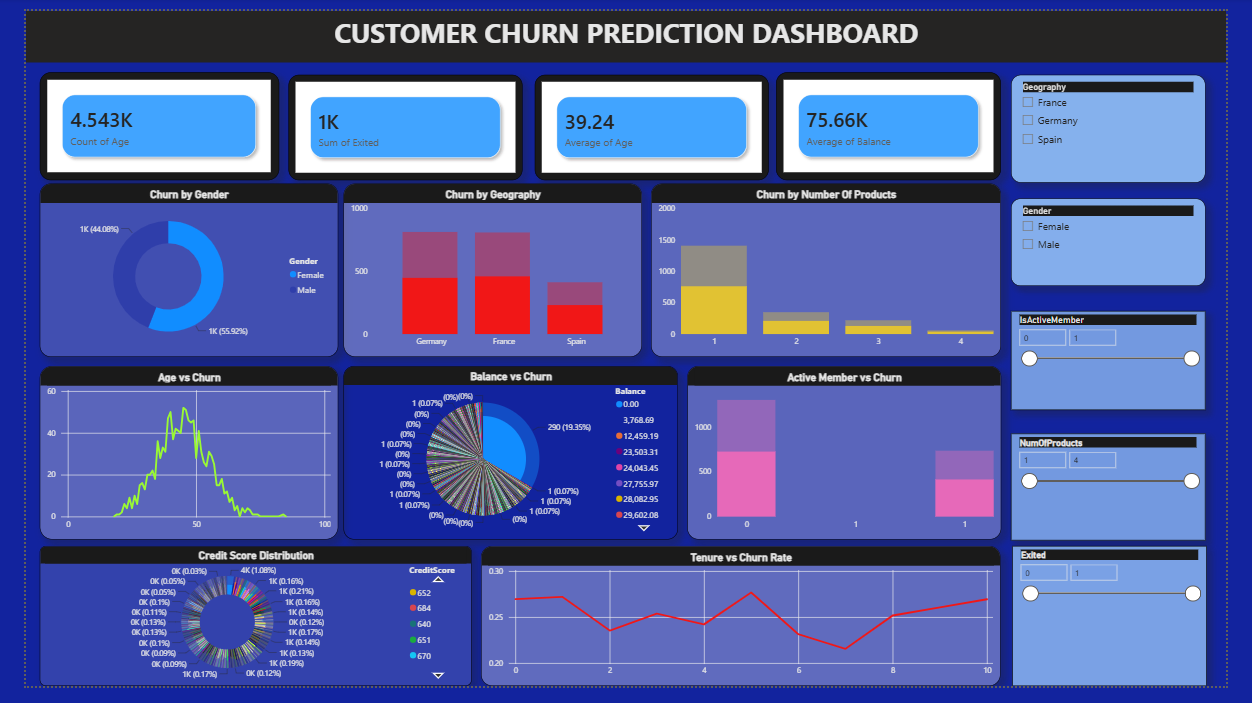

The page's visual inventory and layout, read from the dashboard file:
{"tool":"powerbi","page":{"name":"Page 1","canvas":[1920,1080],"ordinal":0},"visuals":[{"type":"textbox","box":[0,0,1920.4,82.3],"z":0},{"type":"cardVisual","fields":{"Data":["CountNonNull(Cleaned_Churn_Modelling.Age)"]},"box":[22.6,98.8,382.8,172.9],"z":1},{"type":"cardVisual","fields":{"Data":["Sum(Cleaned_Churn_Modelling.Exited)"]},"box":[419.9,102.9,374.6,168.8],"z":2},{"type":"cardVisual","fields":{"Data":["Avg(Cleaned_Churn_Modelling.Age)"]},"box":[813,102.9,374.6,168.8],"z":3},{"type":"cardVisual","fields":{"Data":["Avg(Cleaned_Churn_Modelling.Balance)"]},"box":[1200,98.8,360.2,172.9],"z":4},{"type":"donutChart","title":"Churn by Gender","fields":{"Category":["Cleaned_Churn_Modelling.Gender"],"Y":["Sum(Cleaned_Churn_Modelling.Exited)"]},"box":[22.6,275.8,477.5,277.9],"z":5},{"type":"clusteredColumnChart","title":"Churn by Geography","fields":{"Category":["Cleaned_Churn_Modelling.Geography"],"Y":["Sum(Cleaned_Churn_Modelling.Exited)"]},"box":[508.4,275.8,477.5,277.9],"z":6},{"type":"clusteredColumnChart","title":"Churn by Number Of Products","fields":{"Category":["Cleaned_Churn_Modelling.NumOfProducts"],"Y":["Sum(Cleaned_Churn_Modelling.Exited)"]},"box":[1000.3,275.8,559.9,277.9],"z":7},{"type":"lineChart","title":"Age vs Churn","fields":{"Category":["Cleaned_Churn_Modelling.Age"],"Y":["Sum(Cleaned_Churn_Modelling.Exited)"]},"box":[22.6,568.1,477.5,277.9],"z":8},{"type":"pieChart","title":"Balance vs Churn","fields":{"Category":["Cleaned_Churn_Modelling.Balance"],"Y":["Sum(Cleaned_Churn_Modelling.Exited)"]},"box":[508.4,568.1,535.2,277.9],"z":9},{"type":"clusteredColumnChart","title":"Active Member vs Churn","fields":{"Category":["Cleaned_Churn_Modelling.IsActiveMember"],"Y":["Sum(Cleaned_Churn_Modelling.Exited)"]},"box":[1058,568.1,502.2,277.9],"z":10},{"type":"donutChart","title":"Credit Score Distribution","fields":{"Category":["Cleaned_Churn_Modelling.CreditScore"],"Y":["Sum(Cleaned_Churn_Modelling.Age)"]},"box":[22.6,856.3,691.6,224.4],"z":11},{"type":"lineChart","title":"Tenure vs Churn Rate","fields":{"Category":["Cleaned_Churn_Modelling.Tenure"],"Y":["Avg(Cleaned_Churn_Modelling.Exited)"]},"box":[728.6,856.3,831.6,224.4],"z":12},{"type":"slicer","fields":{"Values":["Cleaned_Churn_Modelling.Geography"]},"box":[1576.7,102.9,310.8,172.9],"z":13},{"type":"slicer","fields":{"Values":["Cleaned_Churn_Modelling.Gender"]},"box":[1576.7,300.5,310.8,140],"z":14},{"type":"slicer","fields":{"Values":["Cleaned_Churn_Modelling.IsActiveMember"]},"box":[1576.7,479.6,310.8,158.5],"z":15},{"type":"slicer","fields":{"Values":["Cleaned_Churn_Modelling.NumOfProducts"]},"box":[1576.7,675.1,310.8,170.8],"z":16},{"type":"slicer","fields":{"Values":["Cleaned_Churn_Modelling.Exited"]},"box":[1577,856,311,224],"z":17}]}

Visuals, with their boxes in screenshot pixels (x1, y1, x2, y2), scaled from the page's 1920x1080 canvas onto the 1252x703 screenshot:
textbox: <box>0,0,1251,54</box>
cardVisual - CountNonNull(Cleaned_Churn_Modelling.Age): <box>15,64,264,177</box>
cardVisual - Sum(Cleaned_Churn_Modelling.Exited): <box>274,67,518,177</box>
cardVisual - Avg(Cleaned_Churn_Modelling.Age): <box>530,67,774,177</box>
cardVisual - Avg(Cleaned_Churn_Modelling.Balance): <box>782,64,1017,177</box>
"Churn by Gender" donutChart: <box>15,180,326,360</box>
"Churn by Geography" clusteredColumnChart: <box>332,180,643,360</box>
"Churn by Number Of Products" clusteredColumnChart: <box>652,180,1017,360</box>
"Age vs Churn" lineChart: <box>15,370,326,551</box>
"Balance vs Churn" pieChart: <box>332,370,681,551</box>
"Active Member vs Churn" clusteredColumnChart: <box>690,370,1017,551</box>
"Credit Score Distribution" donutChart: <box>15,557,466,702</box>
"Tenure vs Churn Rate" lineChart: <box>475,557,1017,702</box>
slicer - Cleaned_Churn_Modelling.Geography: <box>1028,67,1231,180</box>
slicer - Cleaned_Churn_Modelling.Gender: <box>1028,196,1231,287</box>
slicer - Cleaned_Churn_Modelling.IsActiveMember: <box>1028,312,1231,415</box>
slicer - Cleaned_Churn_Modelling.NumOfProducts: <box>1028,439,1231,551</box>
slicer - Cleaned_Churn_Modelling.Exited: <box>1028,557,1231,702</box>
